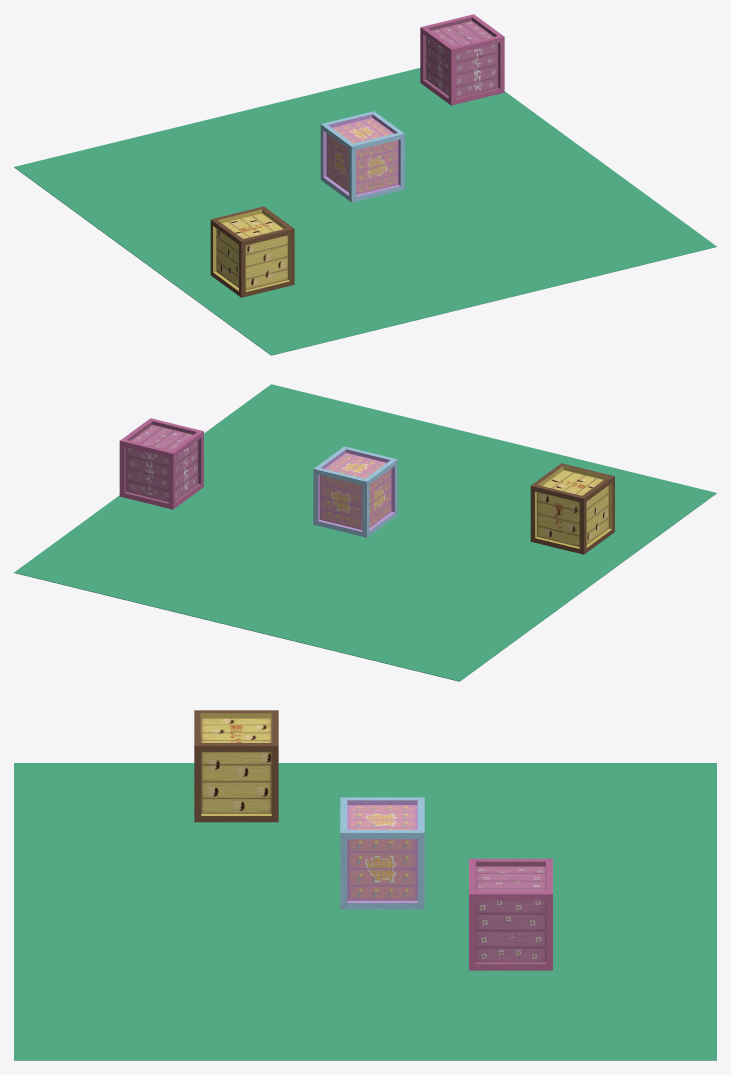
File: crates.glb
The picture shows the model from 3 angles, top to bottom: view 1: azimuth 30°, elevation 25°; view 2: azimuth 150°, elevation 25°; view 3: azimuth 270°, elevation 25°; orthographic projection. The views are drawn at different scales.
Parts seen in each view (by area): view 1: Floor, pCube14_lambert1_0, pasted__pCube14_lambert3_0, pasted__pCube14_lambert2_0; view 2: Floor, pasted__pCube14_lambert3_0, pasted__pCube14_lambert2_0, pCube14_lambert1_0; view 3: Floor, pasted__pCube14_lambert2_0, pasted__pCube14_lambert3_0, pCube14_lambert1_0.
Part boxes in pixels (x1,y1,x2,y2): Floor: (14,68,716,355); pCube14_lambert1_0: (420,14,504,105); pasted__pCube14_lambert3_0: (320,111,404,202); pasted__pCube14_lambert2_0: (210,206,294,297); Floor: (14,384,716,681); pasted__pCube14_lambert3_0: (313,446,397,537); pasted__pCube14_lambert2_0: (530,463,614,554); pCube14_lambert1_0: (119,418,203,509); Floor: (14,763,716,1060); pasted__pCube14_lambert2_0: (194,710,278,822); pasted__pCube14_lambert3_0: (340,797,424,909); pCube14_lambert1_0: (469,858,552,970).
Bounding box in the file's own units: 200 × 42.68 × 200.
4 materials, 3 textured.
